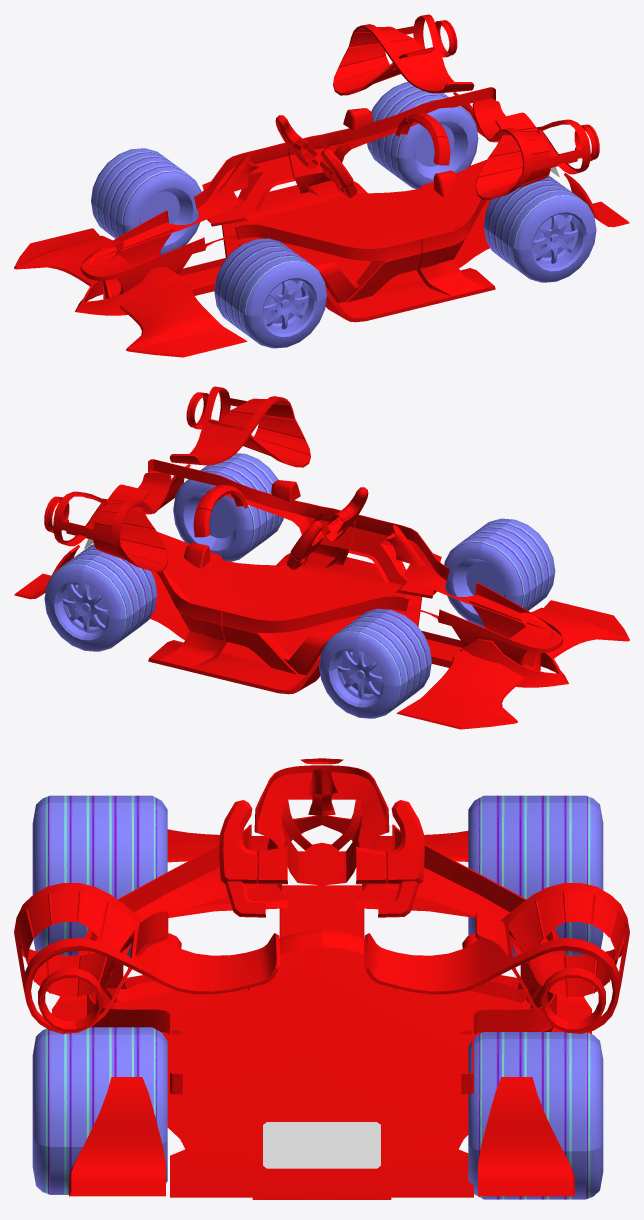
The model's file is thunderbolt.fbx.
The picture shows the model from 3 angles, top to bottom: view 1: azimuth 30°, elevation 25°; view 2: azimuth 150°, elevation 25°; view 3: azimuth 270°, elevation 25°; orthographic projection. The views are drawn at different scales.
Visible parts, largest first — view 1: mesh_13.nr, mesh_18.nr, mesh_18.nr.001, mesh_18.nr.002, mesh_18.nr.003; view 2: mesh_13.nr, mesh_18.nr.002, mesh_18.nr.003, mesh_18.nr, mesh_18.nr.001; view 3: mesh_13.nr, mesh_18.nr.001, mesh_18.nr.003, mesh_18.nr, mesh_18.nr.002, mesh_0.nr.
Part boxes in pixels (x1,y1,x2,y2): mesh_13.nr: (14,14,629,357); mesh_18.nr: (214,238,326,348); mesh_18.nr.001: (483,175,596,282); mesh_18.nr.002: (91,148,201,255); mesh_18.nr.003: (367,82,478,189); mesh_13.nr: (14,386,629,729); mesh_18.nr.002: (319,608,431,718); mesh_18.nr.003: (44,544,157,651); mesh_18.nr: (444,518,555,627); mesh_18.nr.001: (173,453,283,561); mesh_13.nr: (14,758,629,1199); mesh_18.nr.001: (32,1027,167,1194); mesh_18.nr.003: (468,1032,603,1199); mesh_18.nr: (32,795,167,956); mesh_18.nr.002: (468,795,603,956); mesh_0.nr: (263,1122,380,1168).
Size of the model in its own units: 237 by 72.25 by 145.
Materials: 6 (6 with a texture image).
